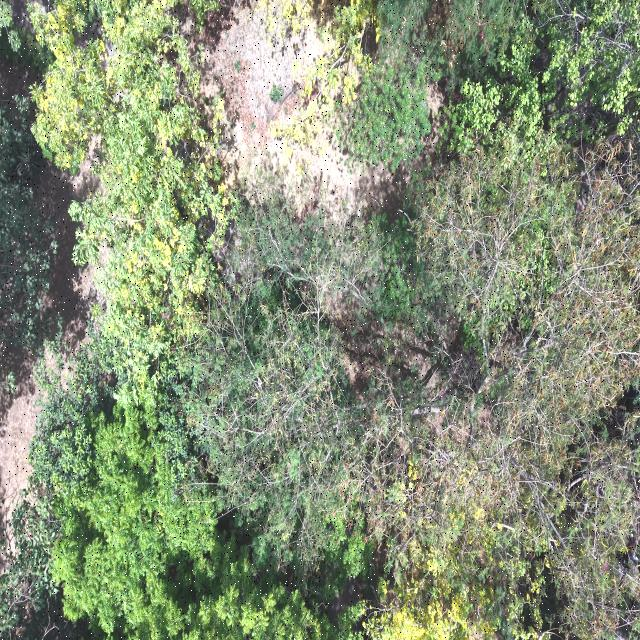DRY_AREA: (185, 3, 444, 225), (182, 0, 410, 221), (185, 0, 412, 221), (199, 5, 359, 217), (194, 4, 321, 183), (35, 161, 95, 352), (35, 161, 94, 351), (0, 351, 39, 521), (0, 350, 35, 527), (0, 381, 36, 521), (0, 61, 38, 100), (9, 0, 33, 31)
VEGETATION_TREE: (0, 0, 639, 639), (372, 3, 638, 637), (414, 138, 638, 636), (32, 0, 234, 392), (52, 404, 320, 639), (0, 345, 114, 639), (442, 0, 639, 154), (341, 2, 444, 171), (270, 0, 377, 162), (0, 95, 57, 397), (0, 97, 56, 357), (0, 487, 85, 638), (344, 52, 437, 171), (0, 0, 52, 73), (0, 0, 20, 52)
